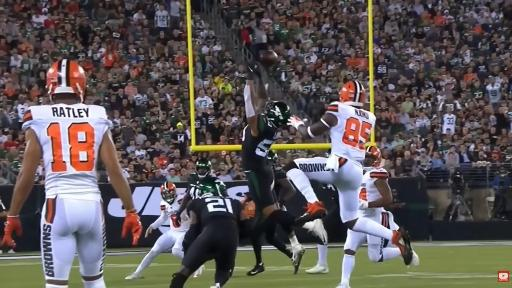Helmet: (47, 60, 86, 101), (340, 81, 366, 107), (264, 102, 290, 127), (199, 178, 227, 197), (365, 146, 381, 167), (161, 182, 176, 204), (196, 159, 211, 177), (267, 151, 278, 164), (326, 149, 331, 157)
Jersey: (23, 104, 112, 200), (327, 102, 375, 162), (242, 115, 280, 170), (188, 197, 242, 229), (161, 194, 189, 231), (359, 168, 388, 202), (187, 173, 219, 199)
Player: (3, 60, 141, 287), (289, 81, 412, 265), (242, 64, 326, 230), (171, 179, 250, 287), (126, 182, 188, 279), (338, 230, 401, 287), (247, 222, 305, 275), (176, 158, 216, 225), (284, 157, 334, 205)
